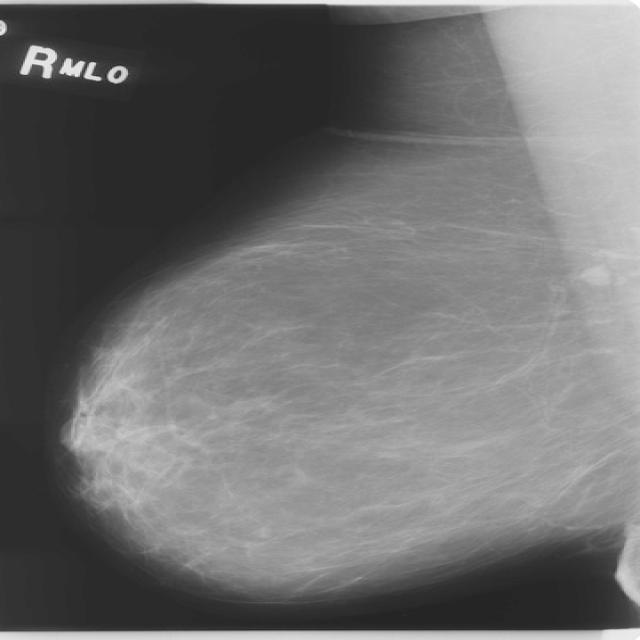tumour: (580, 263, 610, 285)
